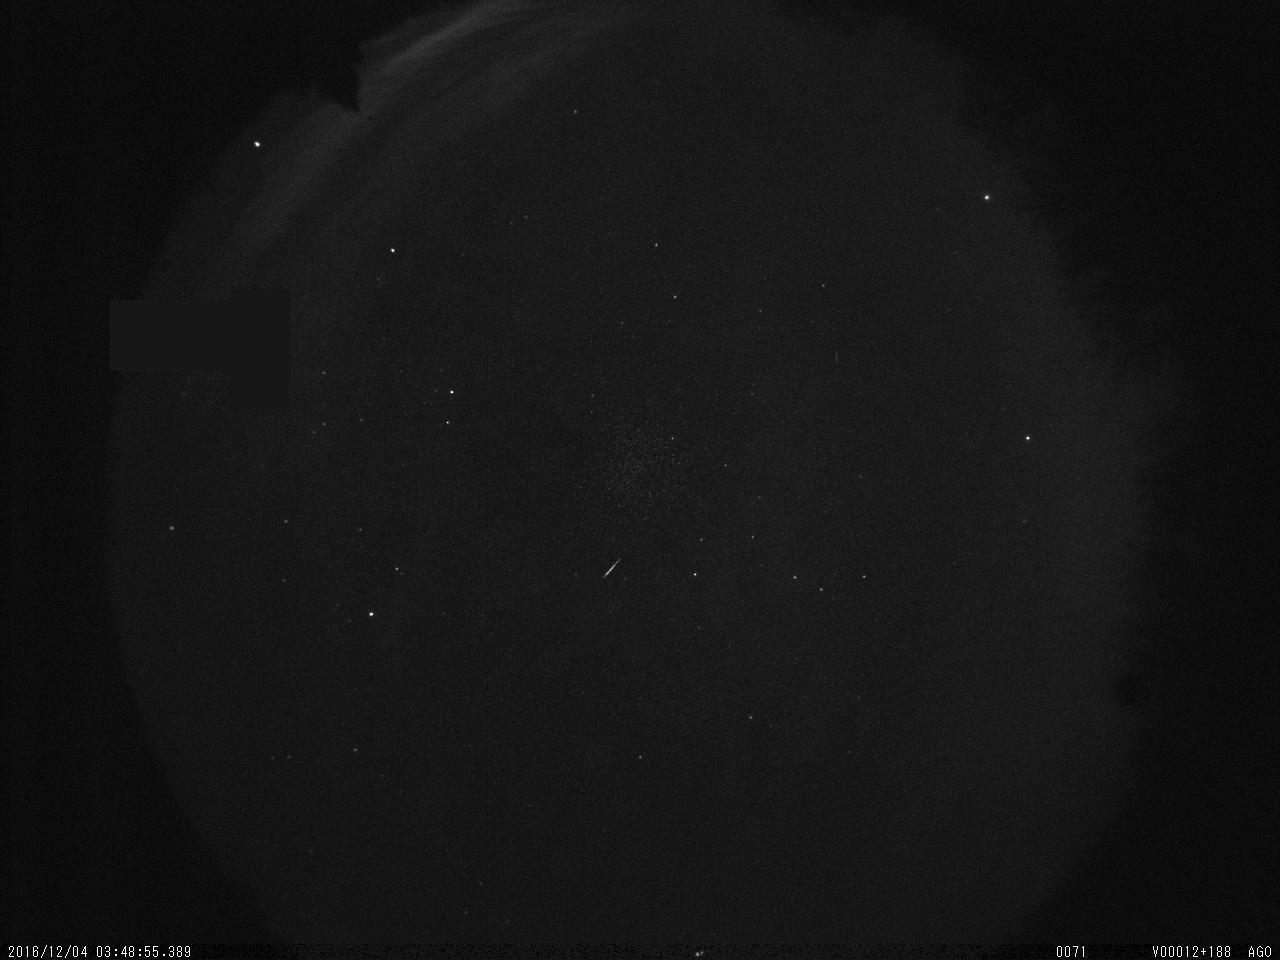Meteor: (599, 555, 621, 580)
